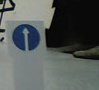forward: (12, 24, 41, 52)
